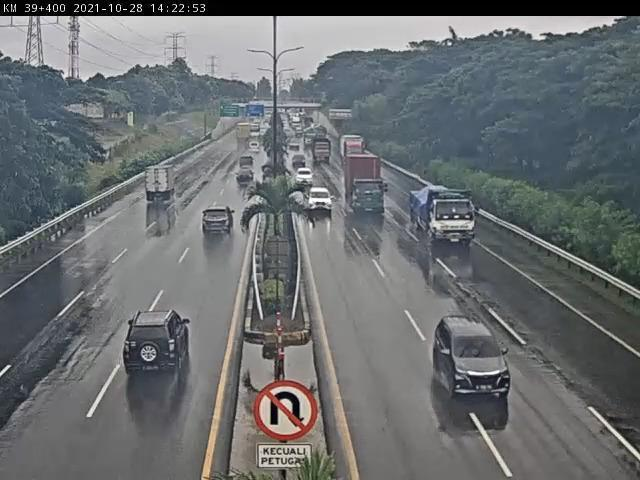truck: (412, 188, 479, 246), (345, 153, 387, 214), (143, 165, 177, 206)
